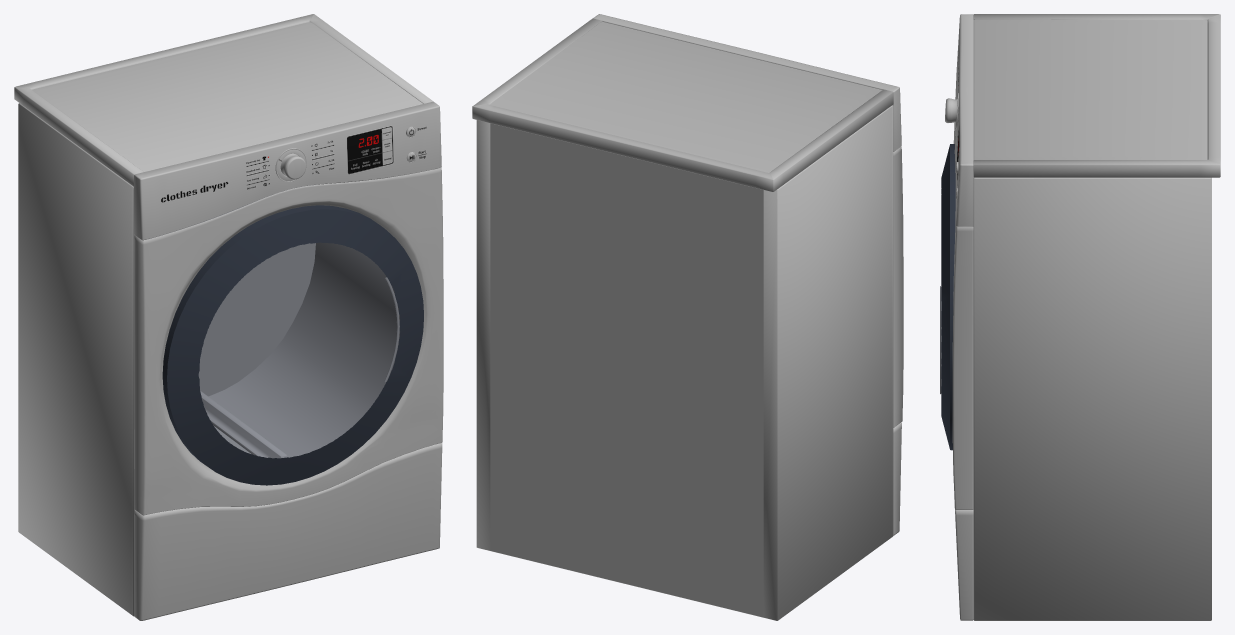
Rendered from visual_LowPoly_Full_18_ClothesDryer.dae.
3 renders of one model, left to right at view 1: azimuth 30°, elevation 25°; view 2: azimuth 150°, elevation 25°; view 3: azimuth 270°, elevation 25°, orthographic. The views are drawn at different scales.
Visible parts, largest first — view 1: SM_clothes_dryer_daikuang; view 2: SM_clothes_dryer_daikuang; view 3: SM_clothes_dryer_daikuang.
Part boxes in pixels (bbox=[...]): SM_clothes_dryer_daikuang: bbox=[14, 14, 443, 620]; SM_clothes_dryer_daikuang: bbox=[472, 14, 903, 620]; SM_clothes_dryer_daikuang: bbox=[940, 14, 1220, 620].
Size of the model in its own units: 60.24 by 48.57 by 84.93.
2 materials, 2 textured.
